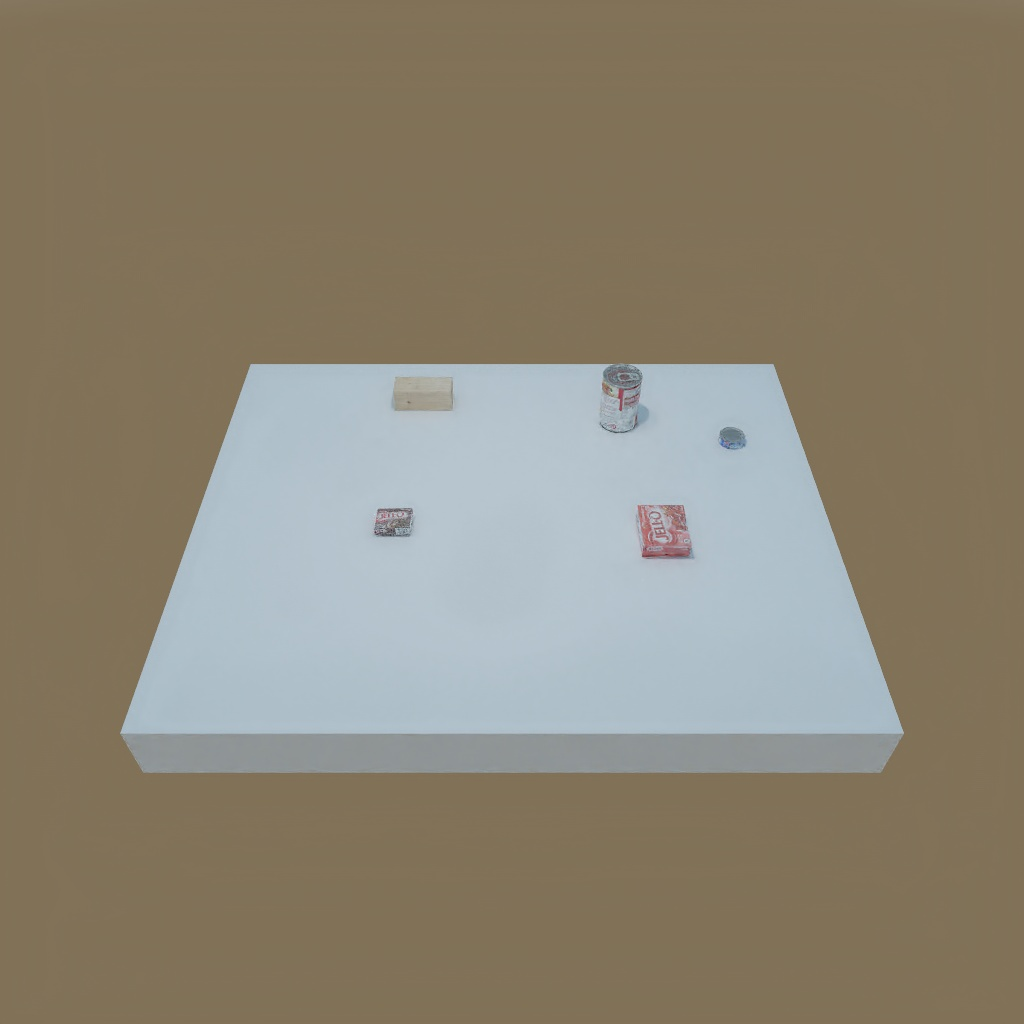gelatin_box: (633, 498, 696, 559)
pudding_box: (373, 507, 414, 539)
tomato_soup_can: (596, 360, 642, 434)
wood_block: (389, 370, 459, 413)
